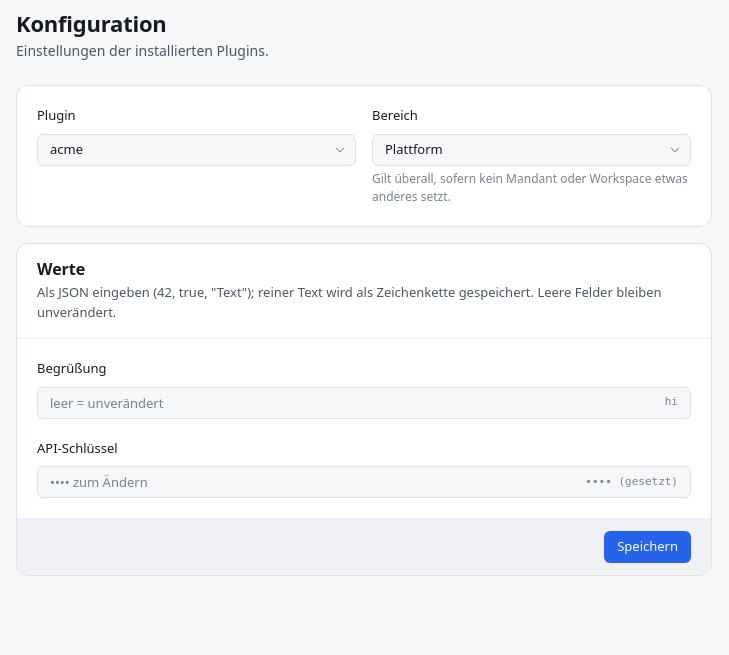
Scenario: SystemConfigView › aborts save when a before-save hook cancels
Type "hi" into the field named "greeting" at (353, 403), box [50,388,657,418]
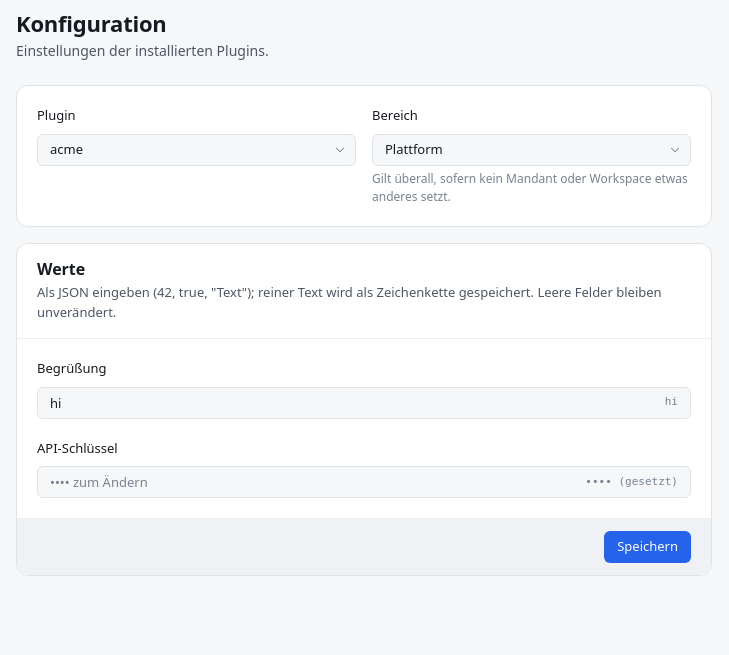
Submit the form with class "config__fields", box [37,359,691,498]
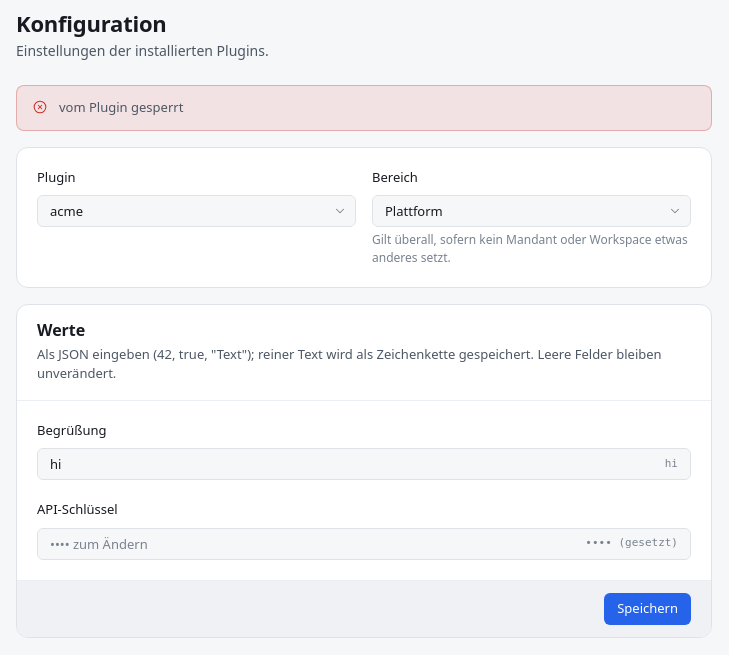
expect the text "vom Plugin gesperrt" is shown: met, box [59,98,183,116]
